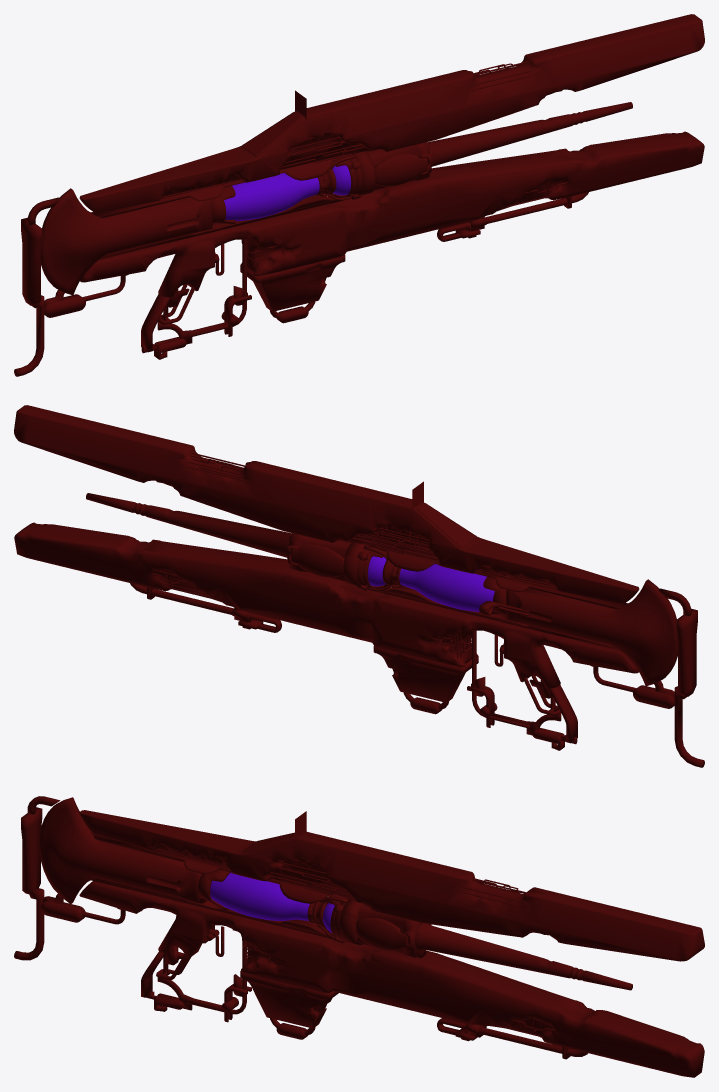
File: Divinity fixed.fbx
3 renders of one model, top to bottom at view 1: azimuth 30°, elevation 25°; view 2: azimuth 150°, elevation 25°; view 3: azimuth 330°, elevation 25°, orthographic.
Parts seen in each view (by area): view 1: Divinity; view 2: Divinity; view 3: Divinity.
Part boxes in pixels (box(x1,y1,x2,y2)): Divinity: box(14, 14, 704, 376); Divinity: box(14, 405, 704, 767); Divinity: box(14, 796, 704, 1077).
Bounding box in the file's own units: 104 × 33.35 × 7.63.
